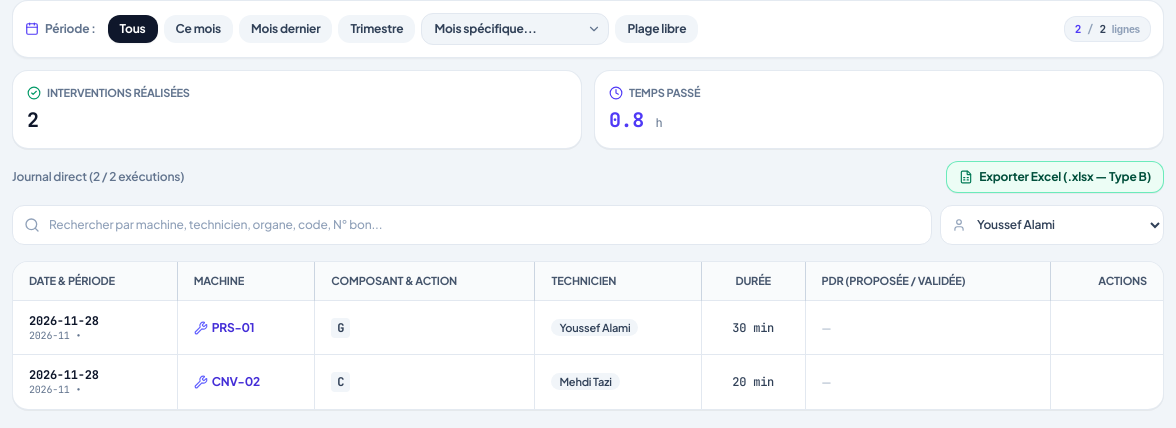
Preventive Maintenance — Full Audit Fixes, RBAC, SOLO_EXPERT & Field Technicians › 7. SOLO_EXPERT Views & Technician Management UI › adapts PreventiveExecutionsHistoryView for SOLO_EXPERT and filters by technician
Step 1. Select "Youssef Alami" in the dropdown named "Filtrer par technicien" → [1052, 224], box [940,204,1164,244]
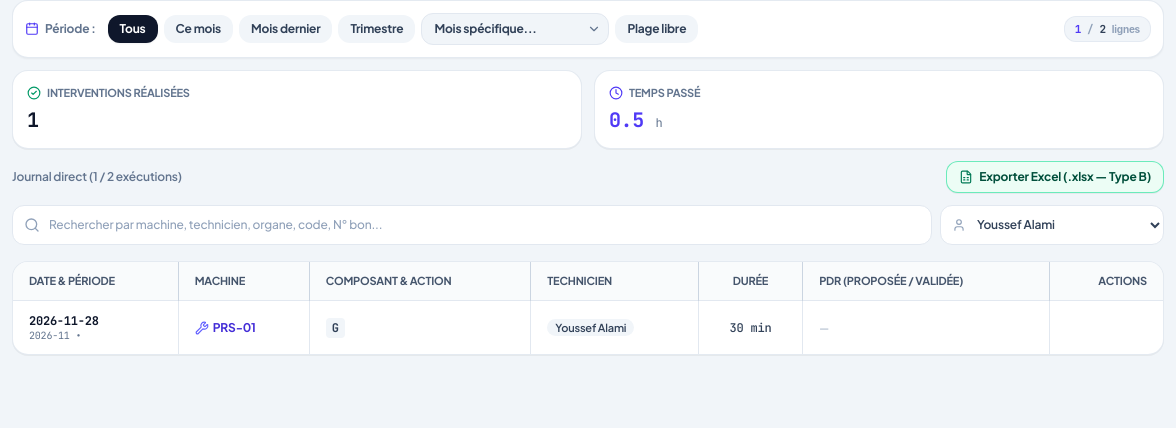
Expected: the text "PRS-01" is shown, [213,320,256,336]
Expected: the text "CNV-02" is gone
